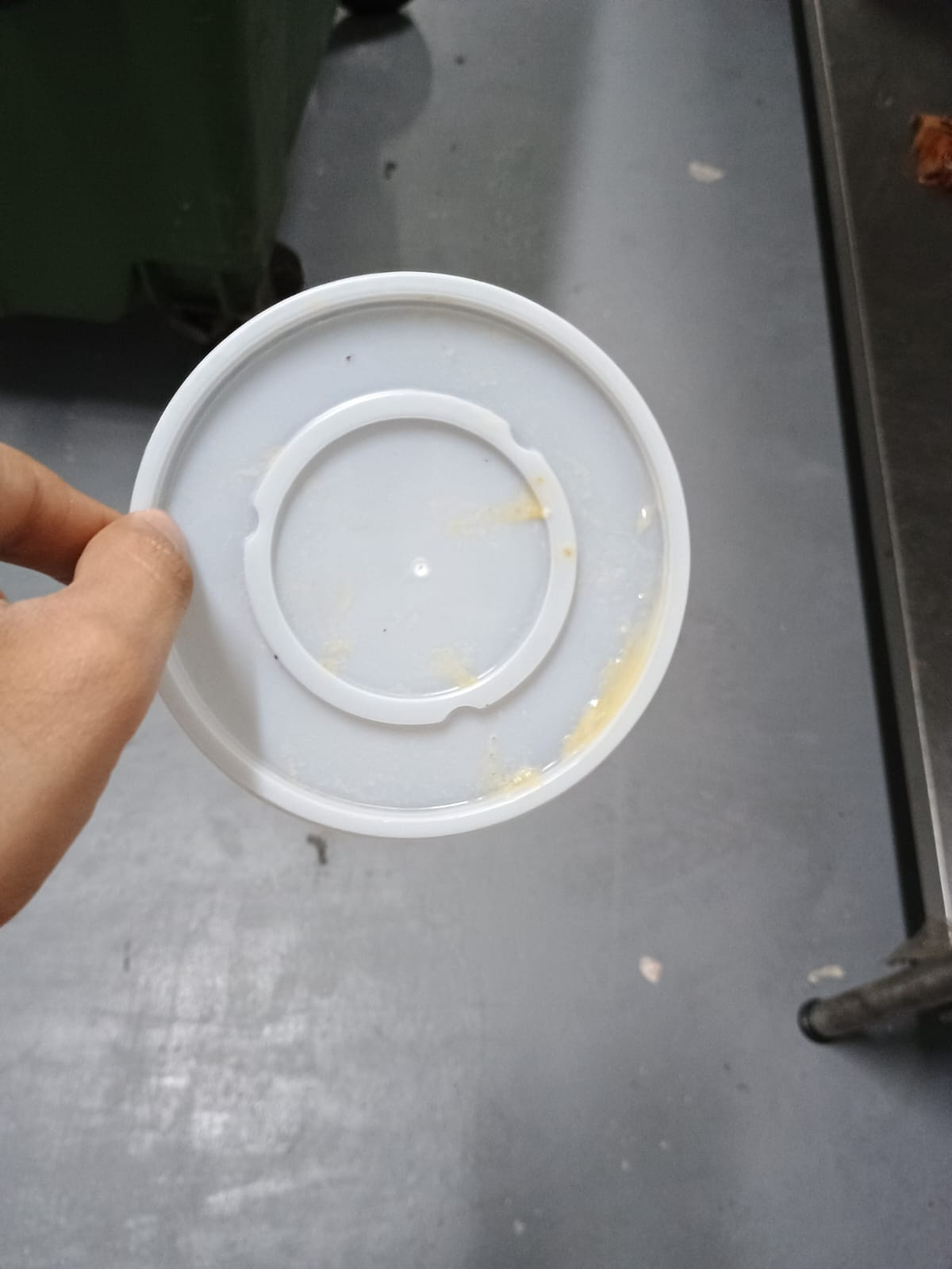Ordinario: (127, 274, 694, 839)
